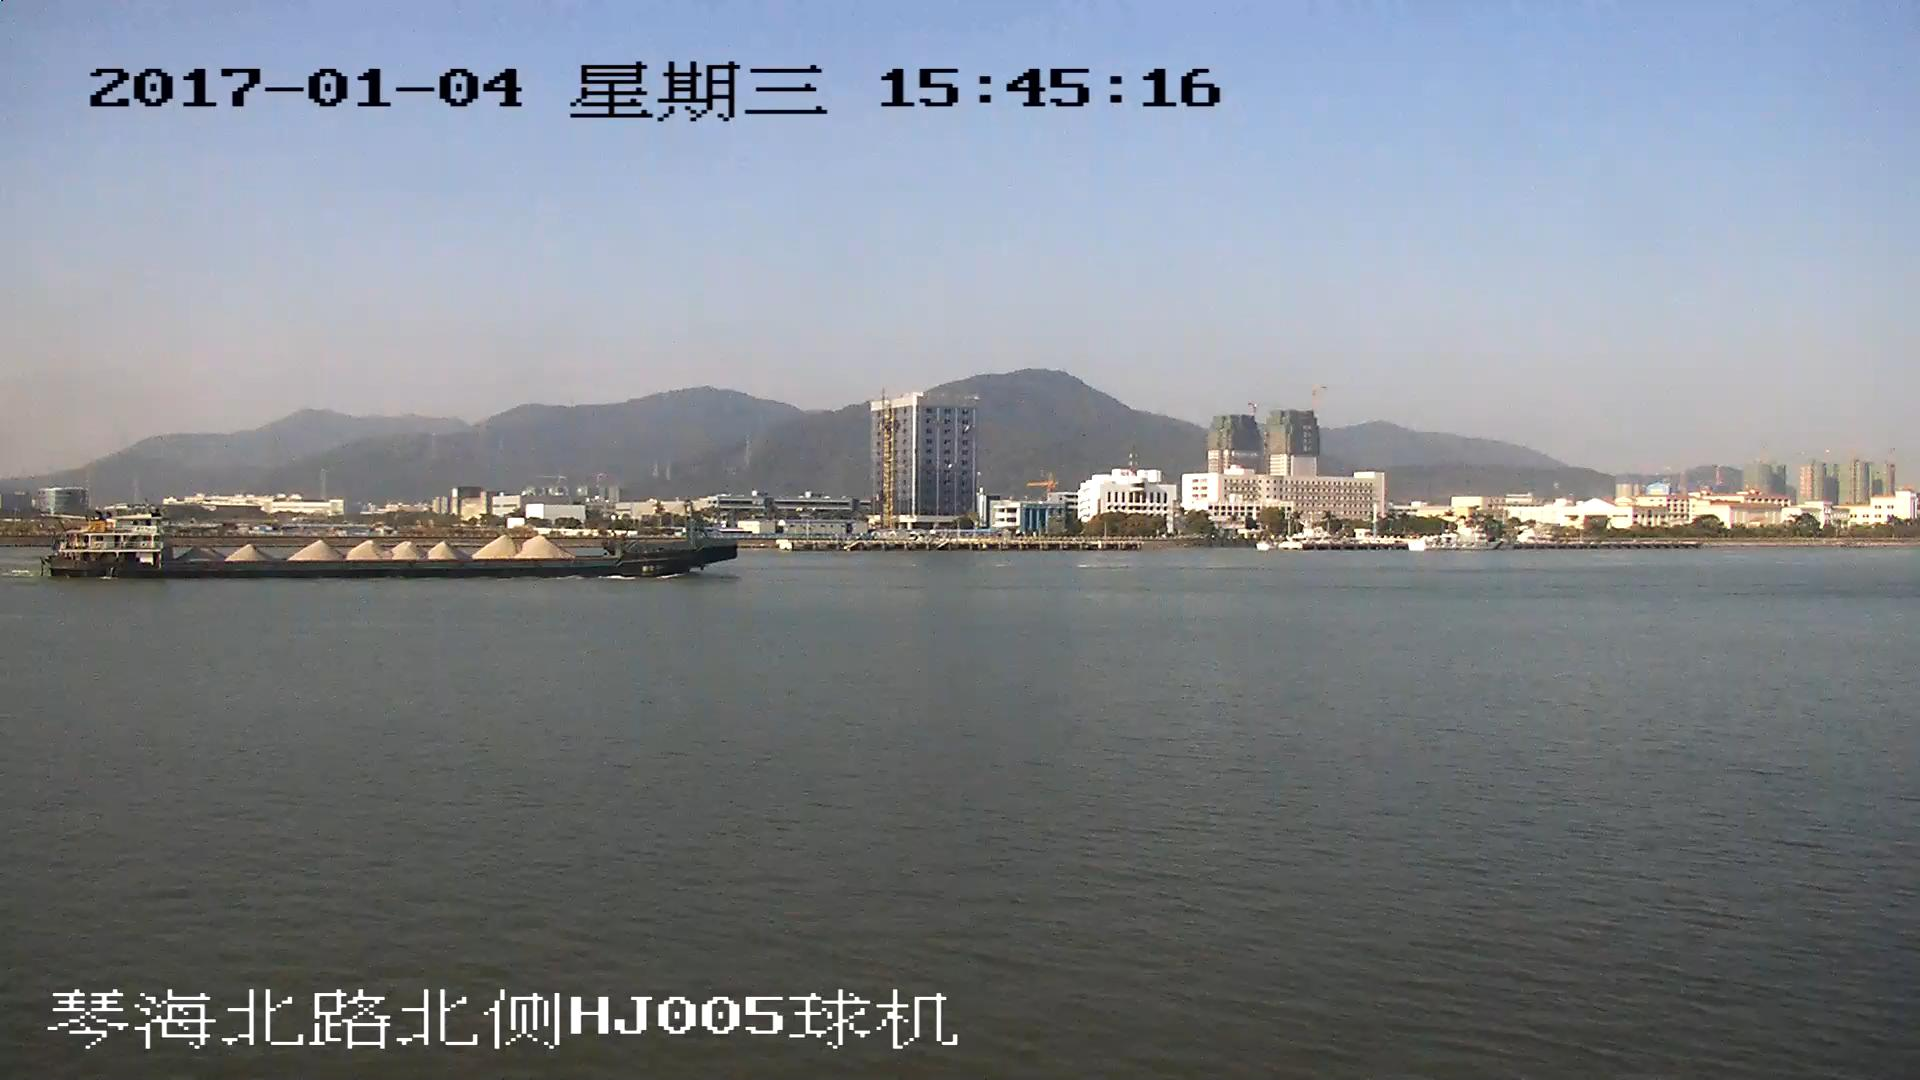ore carrier: (44, 510, 742, 579)
